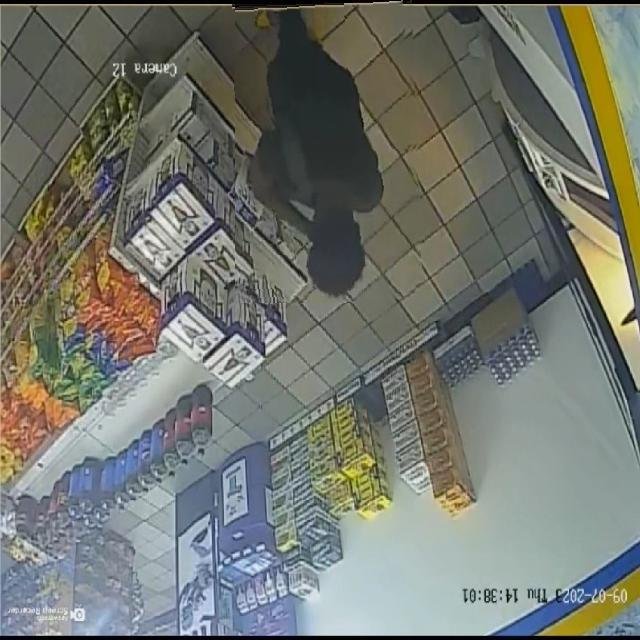normal: (235, 0, 421, 303)
